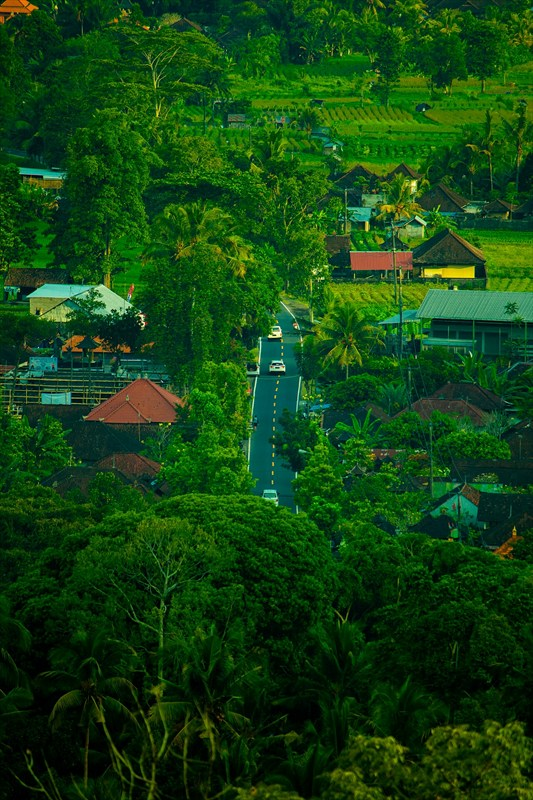Rendang: (31, 79, 508, 521)
